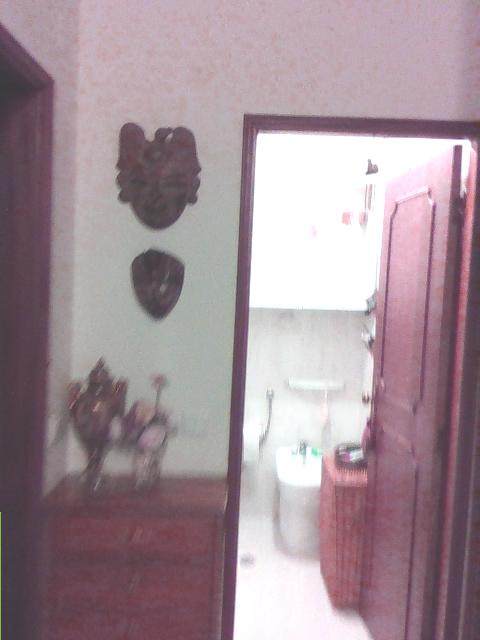open_door: (223, 113, 479, 639)
